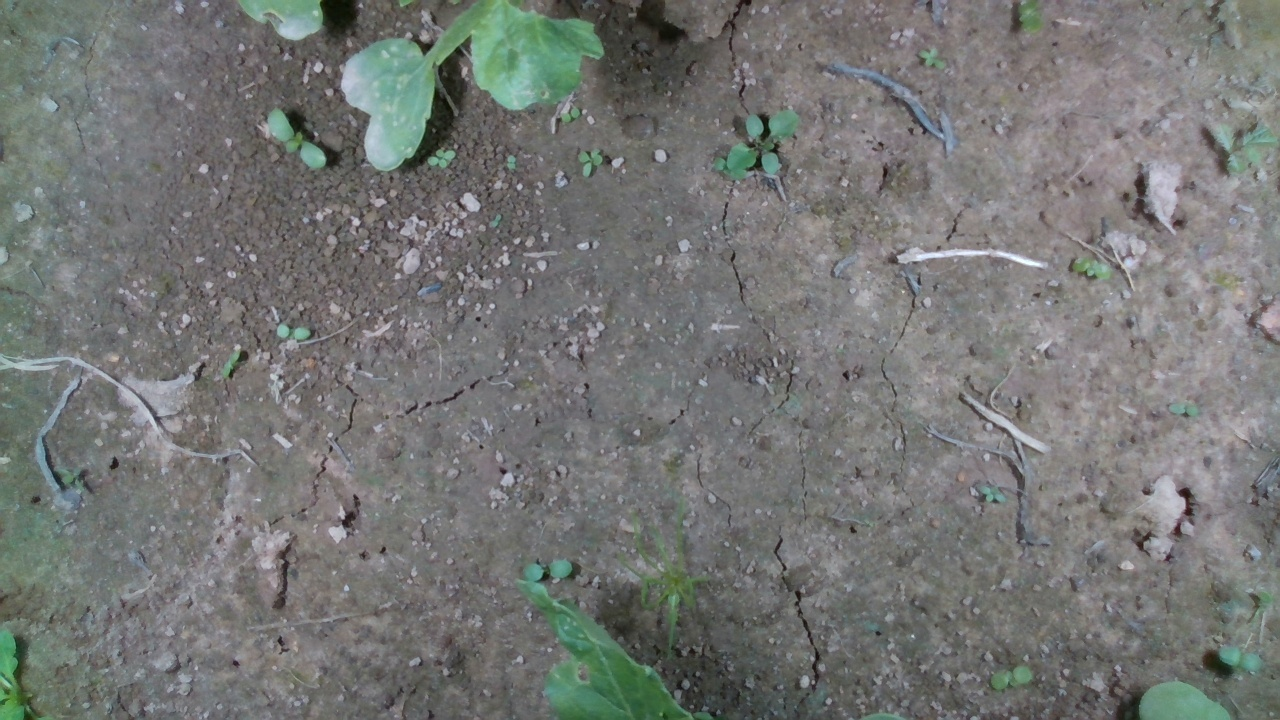weed: (266, 106, 327, 171), (1217, 645, 1264, 673), (521, 559, 573, 581), (1071, 255, 1114, 281), (989, 665, 1033, 690), (578, 148, 604, 178), (918, 46, 947, 72), (428, 146, 456, 169), (222, 347, 240, 379), (274, 324, 311, 339), (1167, 403, 1199, 417), (559, 106, 580, 122), (506, 153, 517, 170)
